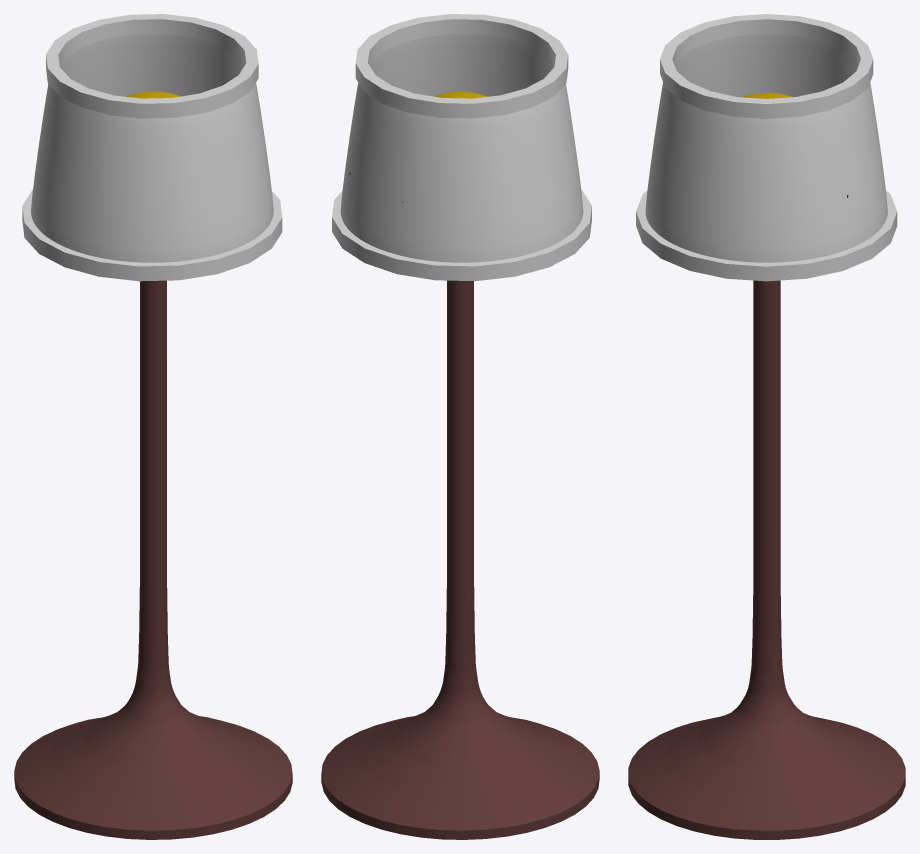
File: LampeSalon1_5.fbx
3 renders of one model, left to right at view 1: azimuth 30°, elevation 25°; view 2: azimuth 150°, elevation 25°; view 3: azimuth 270°, elevation 25°, orthographic.
Visible parts, largest first — view 1: pPipe203, pCylinder1745, pPipe202, pPipe204; view 2: pPipe203, pCylinder1745, pPipe202, pPipe204; view 3: pPipe203, pCylinder1745, pPipe202, pPipe204.
Boxes of the visible parts, left/top/right/bottom form: pPipe203: left=31, top=34, right=273, bottom=262; pCylinder1745: left=14, top=280, right=292, bottom=839; pPipe202: left=46, top=14, right=258, bottom=118; pPipe204: left=22, top=189, right=282, bottom=281; pPipe203: left=340, top=34, right=583, bottom=262; pCylinder1745: left=321, top=280, right=599, bottom=839; pPipe202: left=355, top=14, right=568, bottom=118; pPipe204: left=332, top=189, right=591, bottom=281; pPipe203: left=645, top=34, right=887, bottom=262; pCylinder1745: left=628, top=280, right=905, bottom=839; pPipe202: left=660, top=14, right=873, bottom=118; pPipe204: left=636, top=190, right=897, bottom=281.
Size of the model in its own units: 30.29 by 87.06 by 30.29.
